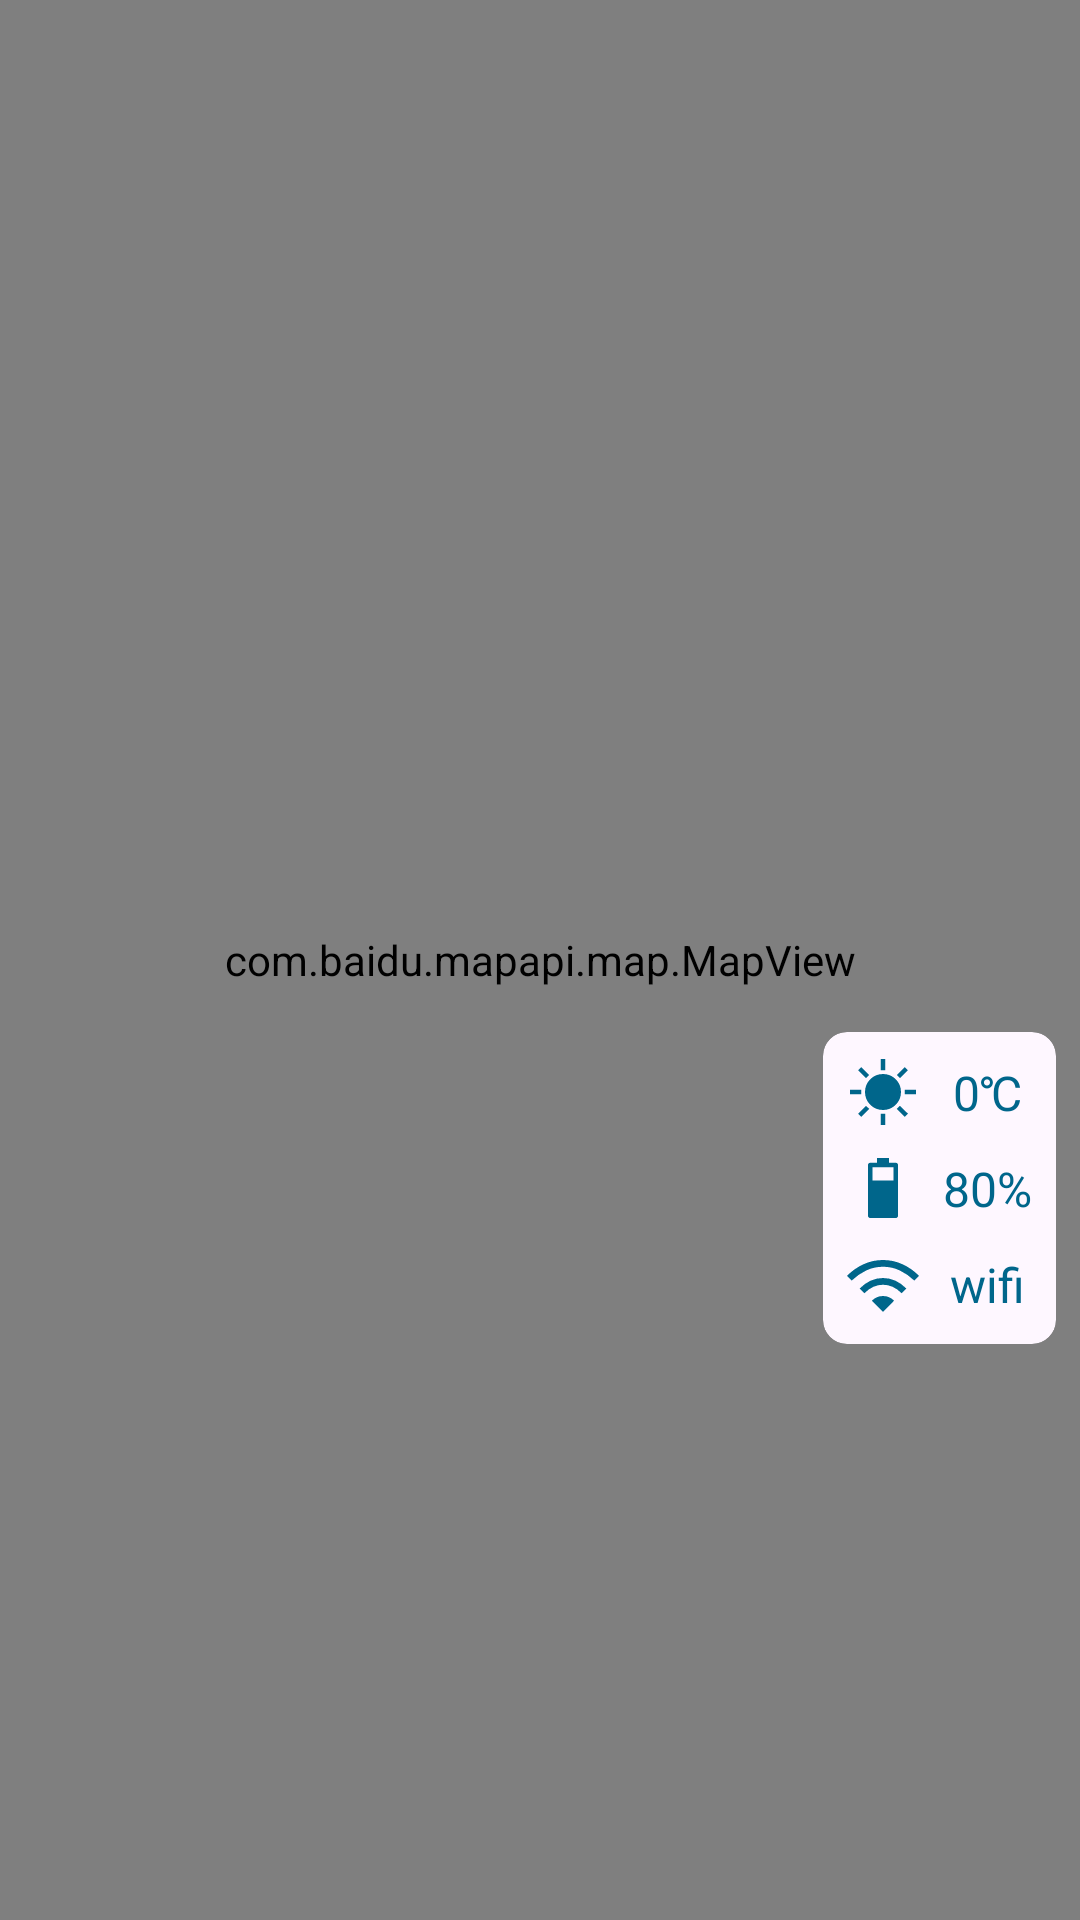

Icon click points for this 1080 × 1920 phone screenshot, format (x=x, y=y):
battery bar: (x=883, y=1188)
sunny: (x=883, y=1092)
